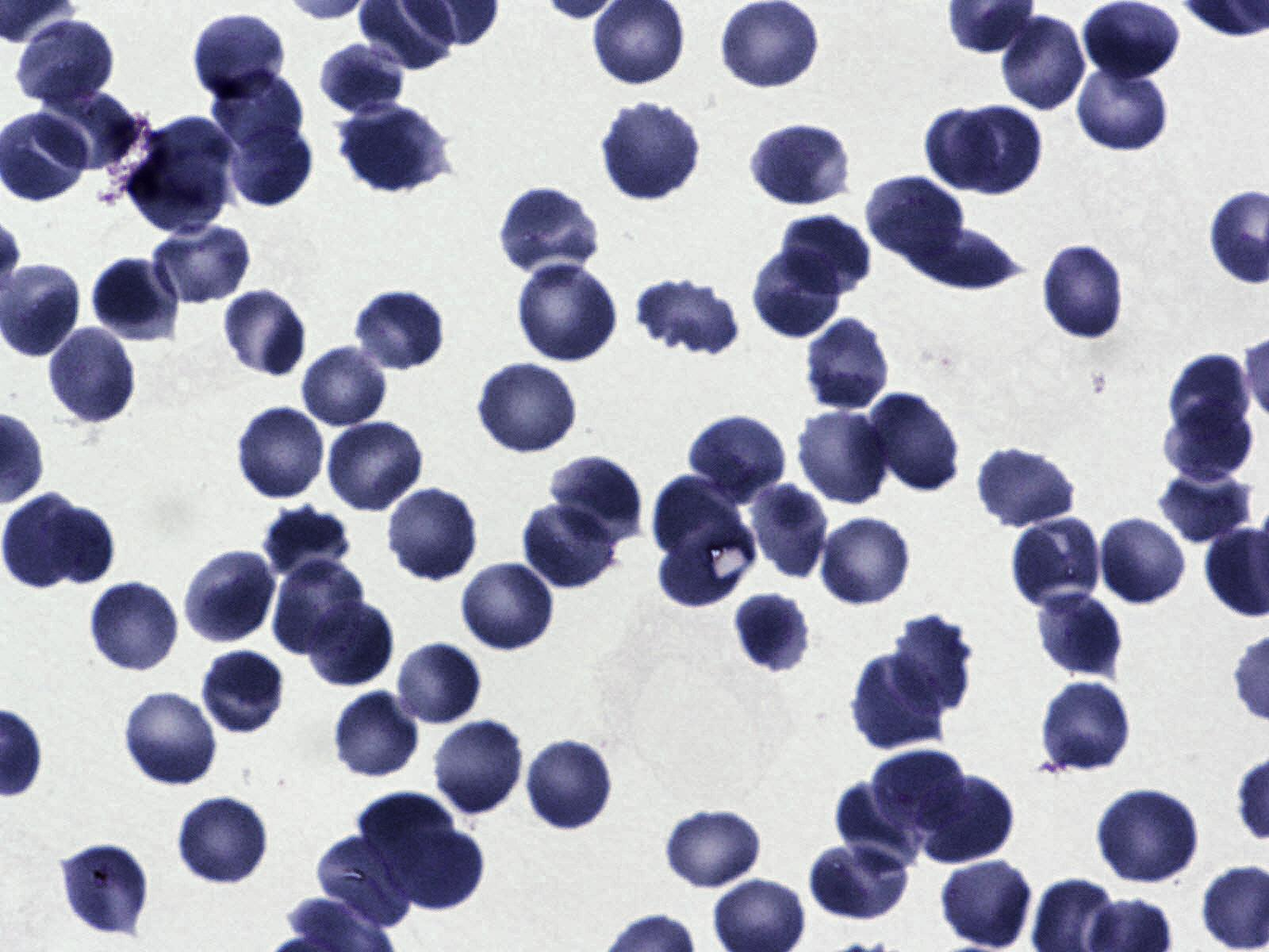Uninfected: (604, 105, 707, 208), (518, 271, 618, 370), (1095, 792, 1199, 886), (1011, 514, 1104, 616), (47, 322, 137, 427), (29, 87, 144, 169), (500, 186, 600, 280), (796, 409, 893, 505), (324, 420, 423, 514), (867, 175, 971, 263), (818, 513, 913, 609), (479, 363, 576, 457), (870, 747, 972, 836), (462, 560, 558, 654), (339, 113, 448, 195), (319, 836, 412, 931), (89, 580, 182, 674), (237, 405, 327, 502), (872, 393, 960, 492), (20, 16, 115, 107), (853, 656, 943, 752), (1041, 681, 1133, 774), (524, 739, 616, 832), (176, 796, 270, 887), (387, 489, 477, 584), (918, 777, 1014, 865), (128, 151, 227, 236), (693, 413, 788, 501), (717, 2, 815, 87), (803, 321, 892, 414), (301, 600, 396, 687), (895, 612, 977, 712), (755, 251, 845, 342), (274, 562, 364, 653), (128, 693, 217, 784), (750, 482, 833, 579), (0, 489, 82, 587), (335, 691, 424, 781), (779, 212, 872, 298), (300, 345, 391, 432), (151, 114, 237, 206), (224, 285, 309, 378), (658, 520, 751, 605), (435, 720, 519, 814), (1080, 5, 1191, 76), (649, 475, 738, 563), (1098, 516, 1184, 607), (353, 290, 446, 374), (1042, 245, 1123, 341), (394, 642, 482, 730), (196, 13, 287, 98), (187, 553, 274, 641), (943, 863, 1031, 950), (754, 130, 853, 207), (355, 790, 455, 866), (556, 454, 644, 540), (899, 227, 1021, 289), (642, 281, 742, 356), (200, 651, 286, 738), (398, 827, 485, 913), (1172, 352, 1257, 440), (980, 444, 1073, 524), (1167, 401, 1259, 481), (803, 847, 909, 916), (93, 259, 182, 341), (519, 511, 608, 593), (151, 225, 247, 301), (838, 775, 916, 868), (63, 845, 142, 936), (214, 75, 306, 153), (1, 263, 79, 355), (1003, 17, 1079, 110), (1080, 65, 1164, 149), (667, 812, 760, 887), (263, 506, 351, 582), (959, 109, 1041, 190), (734, 591, 811, 674), (234, 127, 310, 206), (1039, 596, 1115, 674), (319, 43, 402, 111), (1163, 476, 1252, 539), (928, 113, 997, 190), (42, 506, 110, 581)
